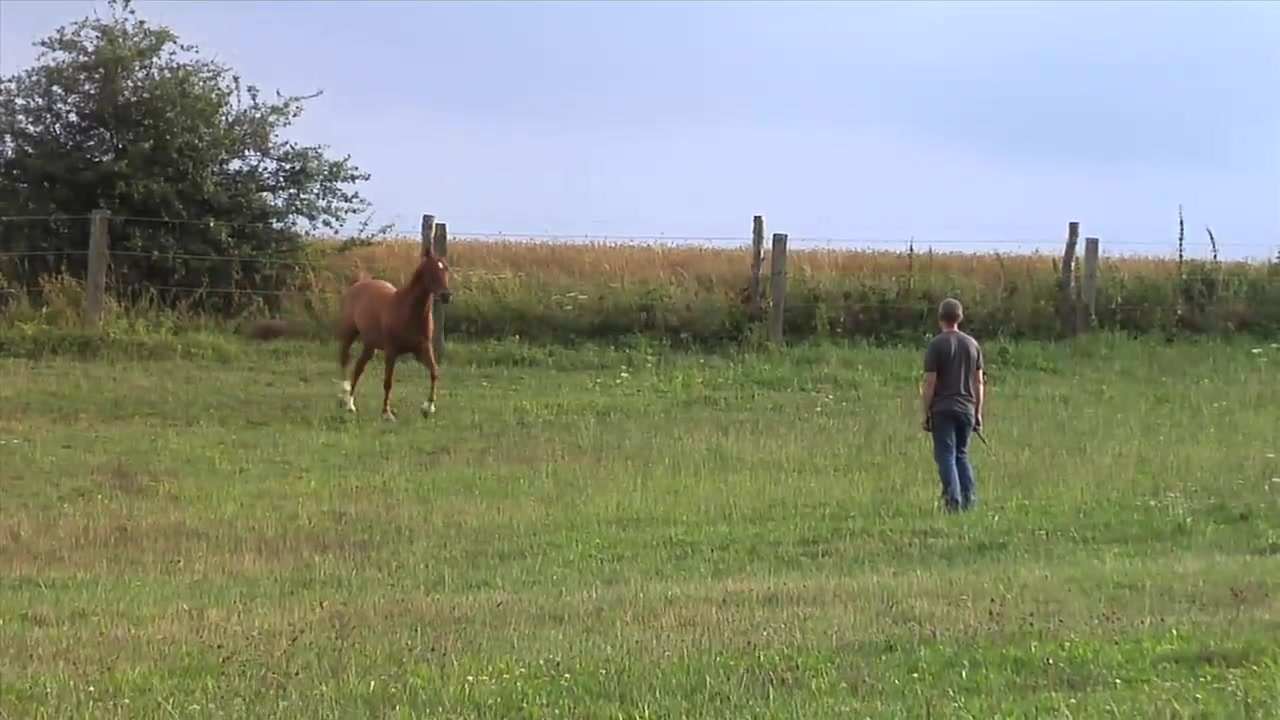horse: (333, 247, 455, 424)
